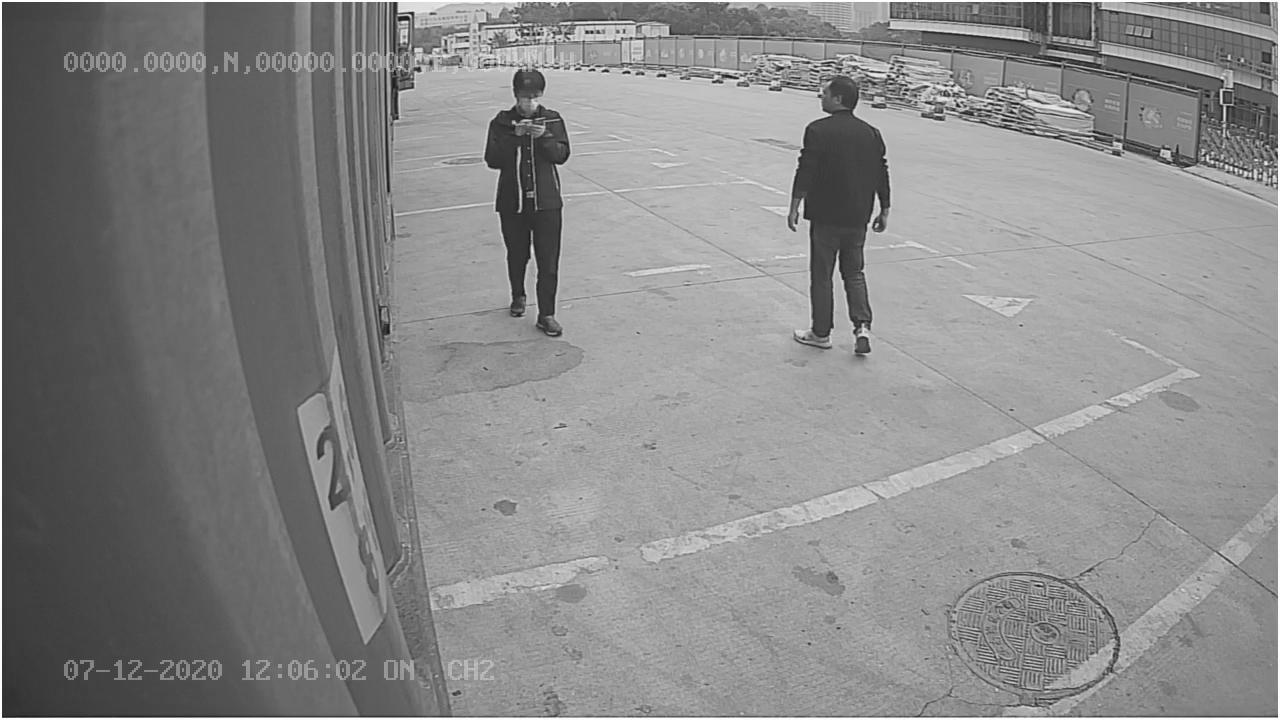person: (780, 70, 891, 358), (480, 62, 577, 341)
